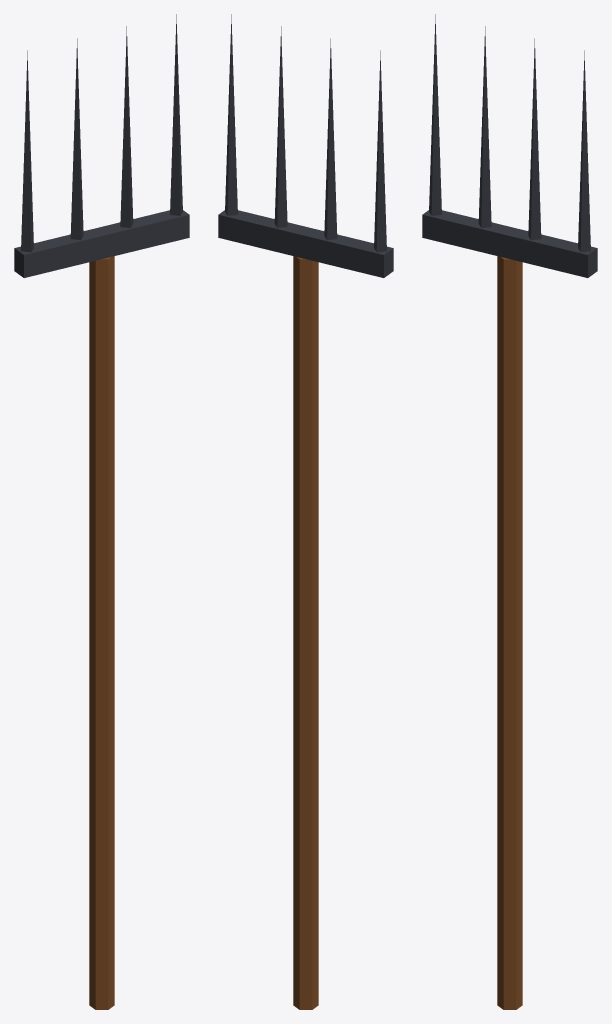
Rendered from pitchfork.glb.
3 renders of one model, left to right at view 1: azimuth 30°, elevation 25°; view 2: azimuth 150°, elevation 25°; view 3: azimuth 330°, elevation 25°, orthographic.
Parts seen in each view (by area): view 1: pitchfork; view 2: pitchfork; view 3: pitchfork.
Boxes of the visible parts, box(x1,y1,x2,y2) form: pitchfork: box(14, 14, 189, 1009); pitchfork: box(218, 14, 393, 1009); pitchfork: box(422, 14, 597, 1009).
Size of the model in its own units: 0.3 by 1.68 by 0.04.
